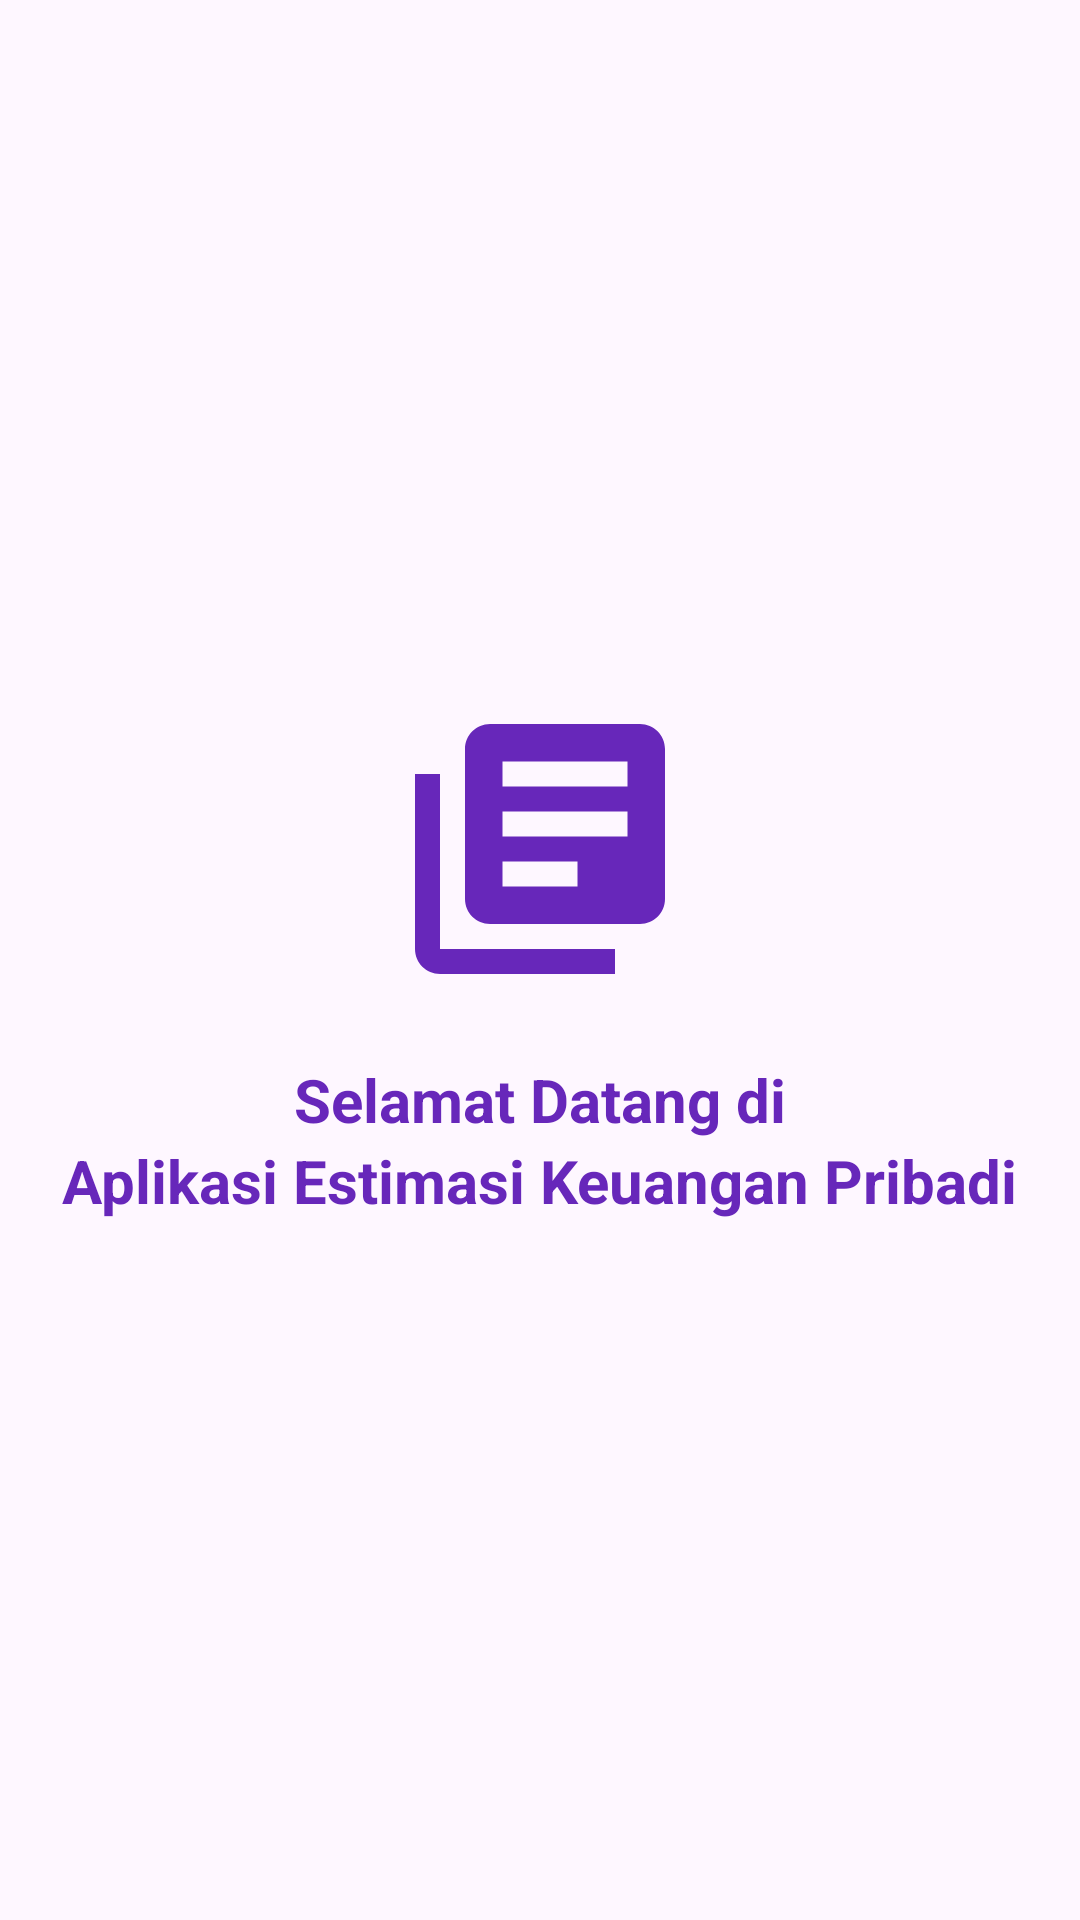

Screen size 1080px×1920px. Icon name, then its box in pixels as bbox=(x1, y1, x2, y2):
laporankeuangan: bbox=(415, 724, 665, 974)
